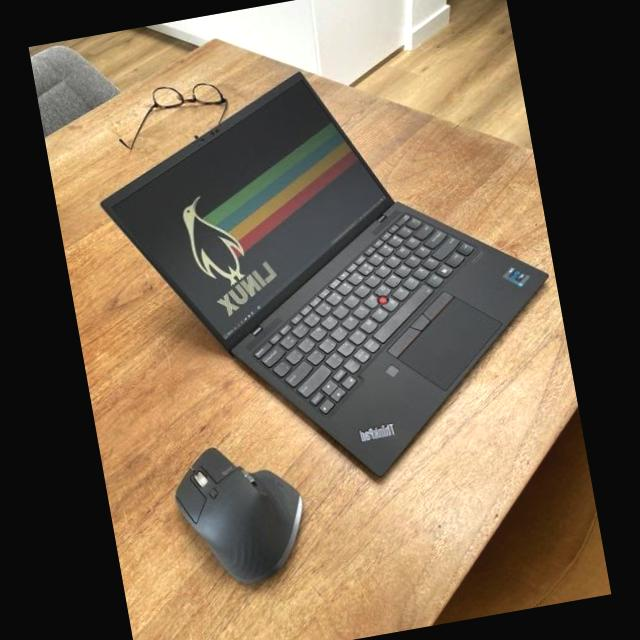laptop: (101, 72, 547, 474)
